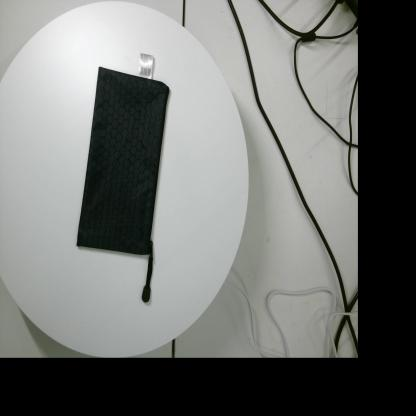Stationery: (76, 52, 170, 303)
